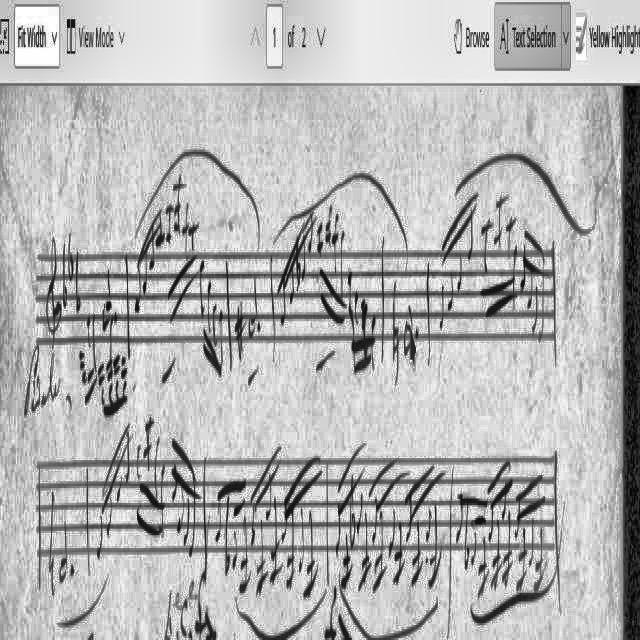Bemol: (58, 233, 70, 310), (64, 222, 76, 298), (74, 238, 82, 318)
Diez: (232, 296, 244, 378)
Half-note: (57, 505, 67, 593)
Sixteenth-note: (531, 227, 541, 357), (446, 222, 456, 330), (96, 468, 106, 566), (528, 220, 536, 334), (124, 420, 136, 494), (206, 266, 214, 374), (198, 255, 206, 362), (458, 202, 466, 302), (540, 248, 548, 344), (140, 230, 150, 306), (278, 262, 288, 338), (520, 216, 528, 306), (106, 460, 114, 546), (170, 435, 178, 521), (468, 188, 476, 270), (149, 214, 157, 282), (300, 221, 308, 287), (289, 249, 295, 319)
Treble-clef: (46, 223, 62, 361)
